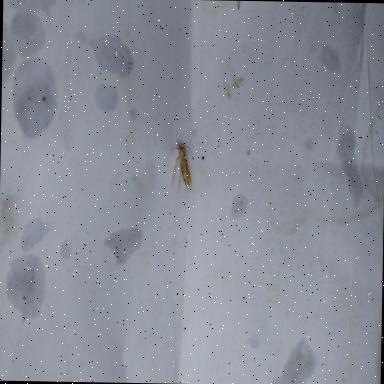pbw: (170, 144, 192, 195)
